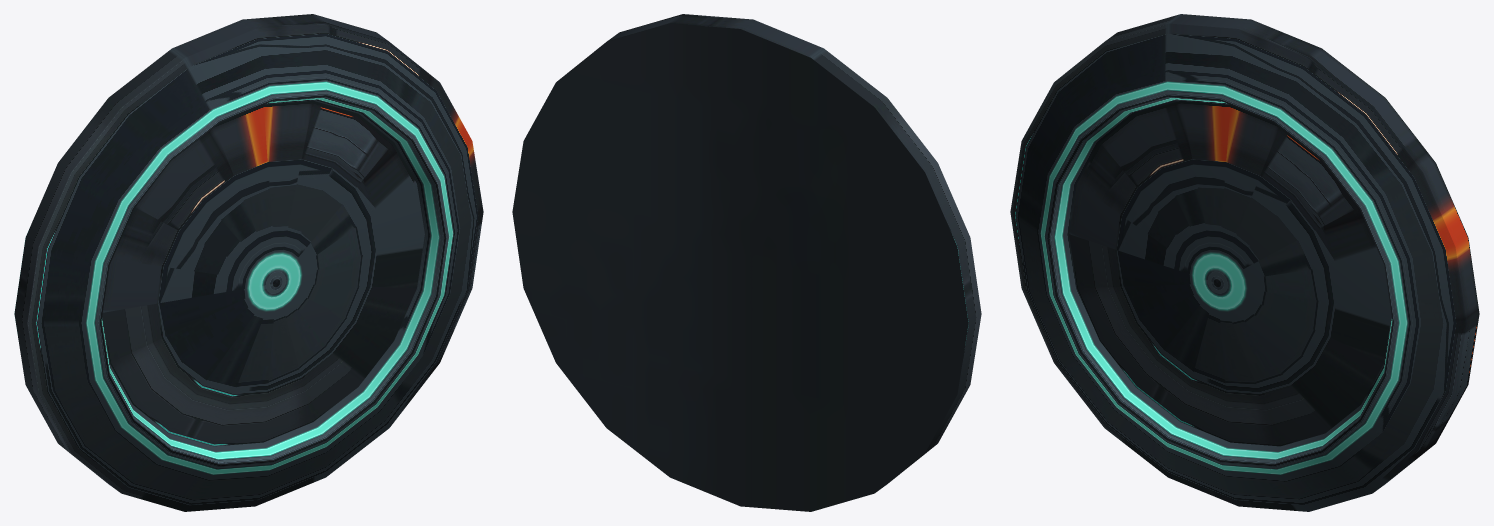
The model's file is MemoryRoom_compass.fbx.
3 renders of one model, left to right at view 1: azimuth 30°, elevation 25°; view 2: azimuth 150°, elevation 25°; view 3: azimuth 330°, elevation 25°, orthographic.
Visible parts, largest first — view 1: MemoryRoom_compass; view 2: MemoryRoom_compass; view 3: MemoryRoom_compass.
Part boxes in pixels (x1=…): MemoryRoom_compass: x1=14, y1=14, x2=483, y2=511; MemoryRoom_compass: x1=512, y1=14, x2=981, y2=511; MemoryRoom_compass: x1=1010, y1=14, x2=1479, y2=511.
Bounding box in the file's own units: 32.92 × 32.92 × 4.3.
